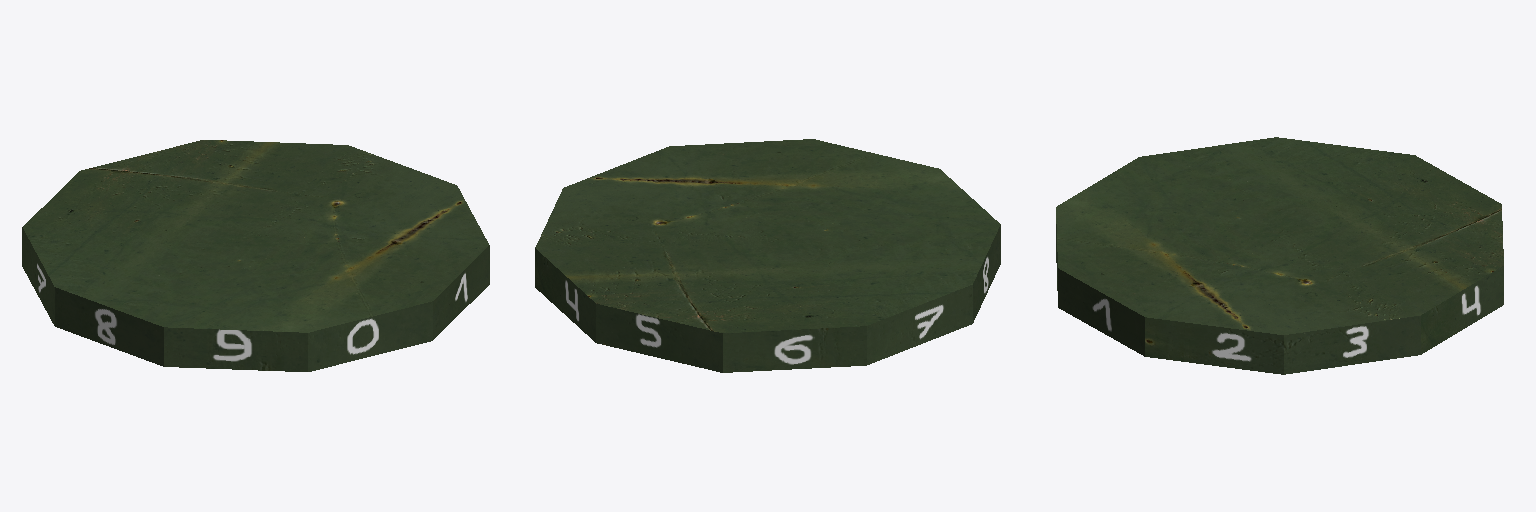
3 views of the same model, side by side, from view 1: azimuth 30°, elevation 25°; view 2: azimuth 150°, elevation 25°; view 3: azimuth 270°, elevation 25° (orthographic).
Parts seen in each view (by area): view 1: Plane; view 2: Plane; view 3: Plane.
Boxes of the visible parts, box(x1,y1,x2,y2) form: Plane: box(22, 140, 489, 371); Plane: box(535, 139, 1000, 372); Plane: box(1056, 137, 1503, 374).
Size of the model in its own units: 2 by 0.1861 by 1.91.
Materials: 1 (1 with a texture image).